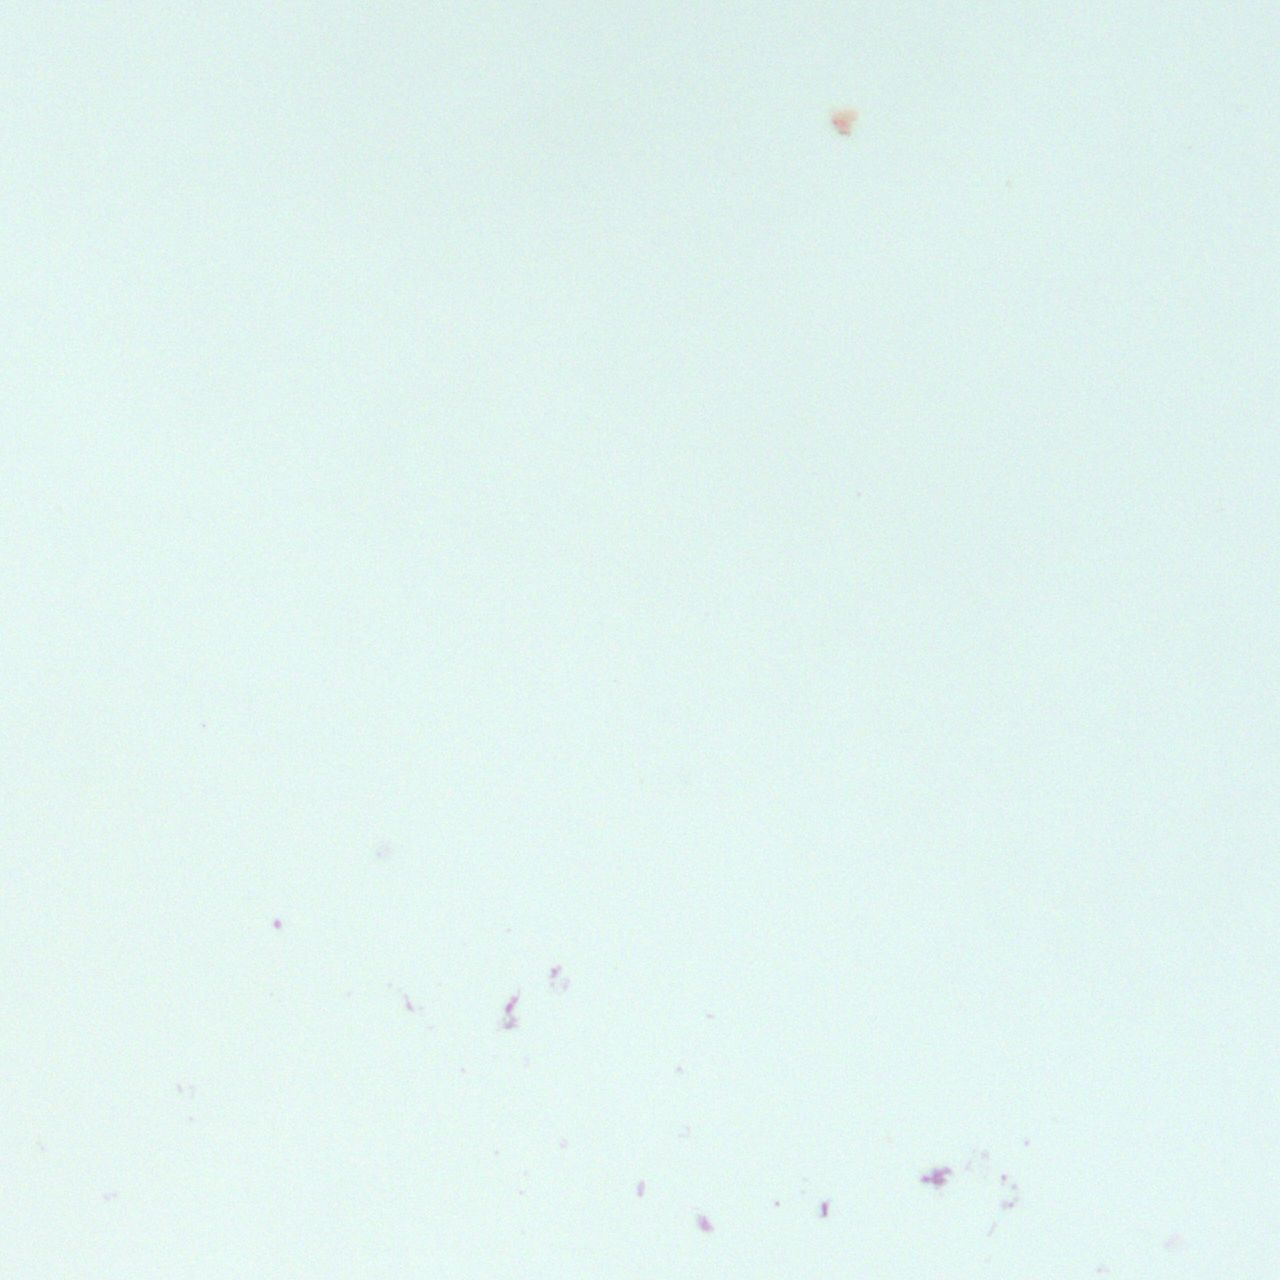dust: (824, 96, 863, 141)
